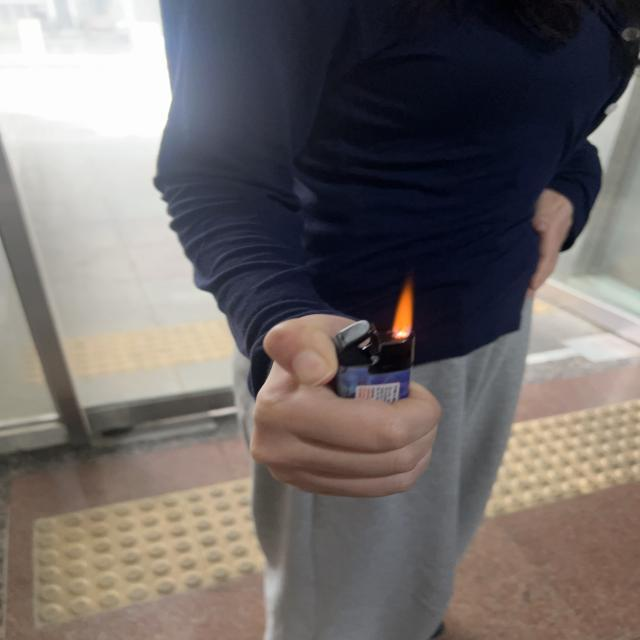fire: (387, 276, 413, 341)
